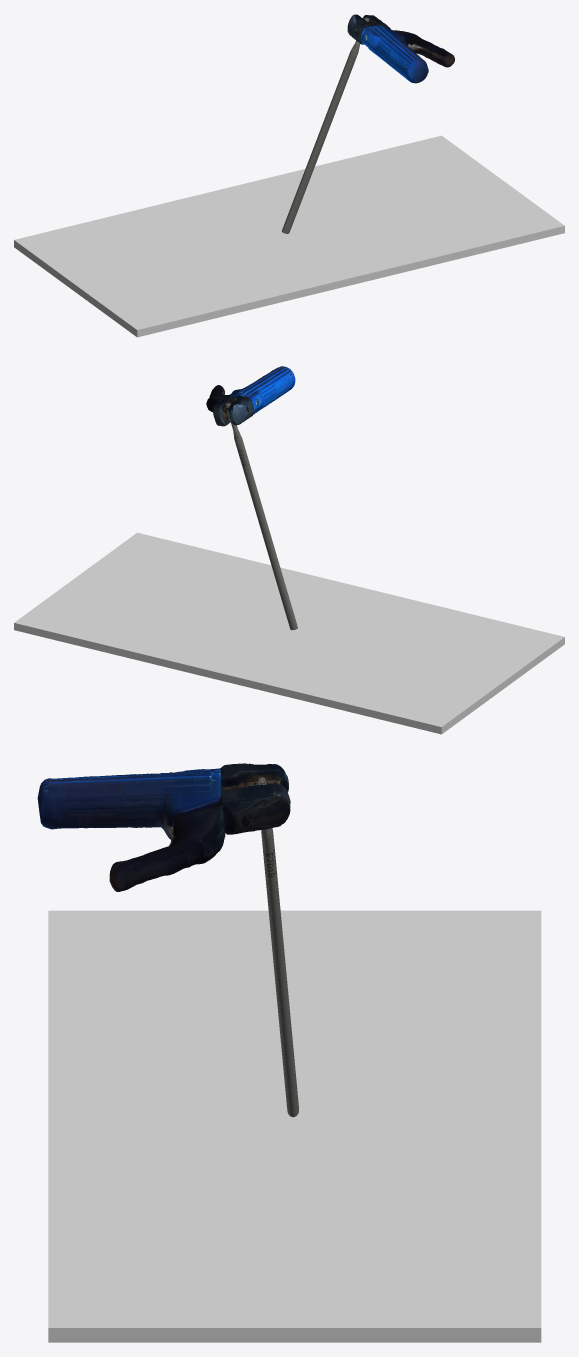
The model's file is sudut-ok.glb.
3 views of the same model, one above another, from view 1: azimuth 30°, elevation 25°; view 2: azimuth 150°, elevation 25°; view 3: azimuth 270°, elevation 25° (orthographic). The views are drawn at different scales.
Parts seen in each view (by area): view 1: Cube, 3DModel; view 2: Cube, 3DModel; view 3: Cube, 3DModel.
Part boxes in pixels (box(x1,y1,x2,y2)): Cube: box(14, 135, 564, 337); 3DModel: box(282, 14, 454, 233); Cube: box(14, 532, 564, 734); 3DModel: box(206, 366, 297, 630); Cube: box(48, 910, 541, 1342); 3DModel: box(37, 763, 298, 1117).
Bounding box in the file's own units: 5.83 × 2.79 × 2.97.
3 materials, 2 textured.
